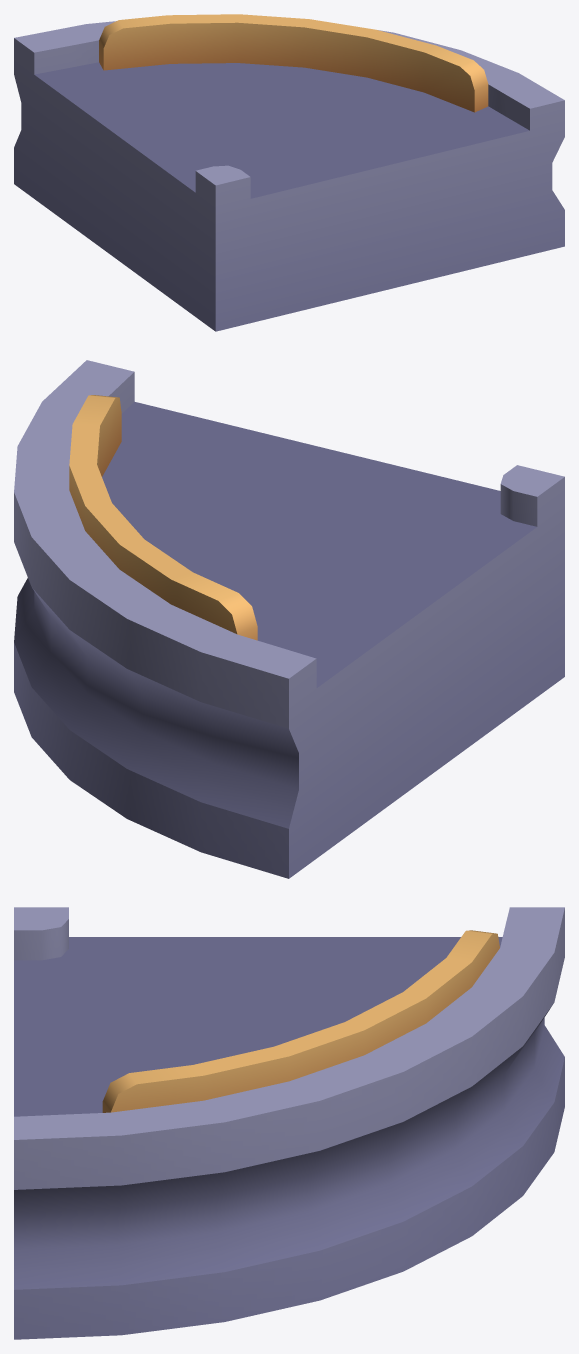
The model's file is kenney-factory-conveyor-corner.glb.
3 renders of one model, top to bottom at view 1: azimuth 30°, elevation 25°; view 2: azimuth 150°, elevation 25°; view 3: azimuth 270°, elevation 25°, orthographic. The views are drawn at different scales.
Parts seen in each view (by area): view 1: conveyor-corner; view 2: conveyor-corner; view 3: conveyor-corner.
Part boxes in pixels (box(x1,y1,x2,y2)): conveyor-corner: box(14, 14, 564, 331); conveyor-corner: box(14, 360, 564, 878); conveyor-corner: box(14, 907, 564, 1339).
Size of the model in its own units: 1.5 by 0.675 by 1.5.
Materials: 1 (1 with a texture image).
